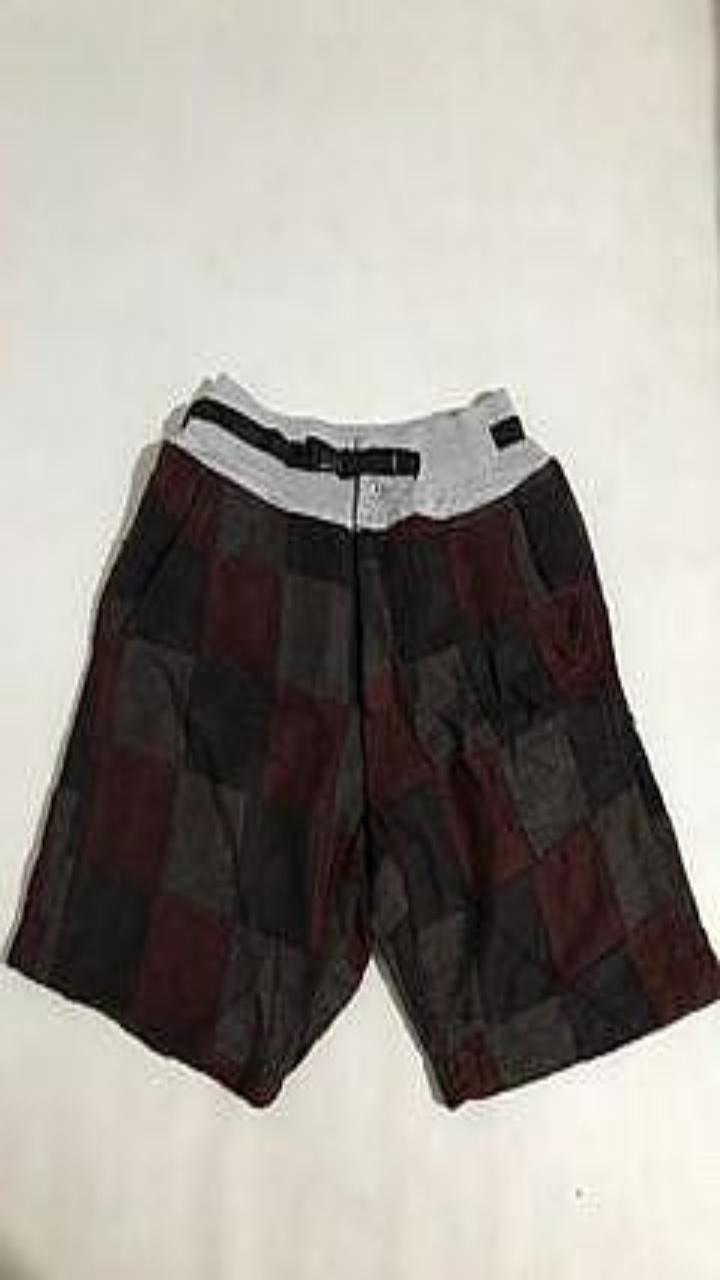Shorts: (6, 374, 719, 1107)
